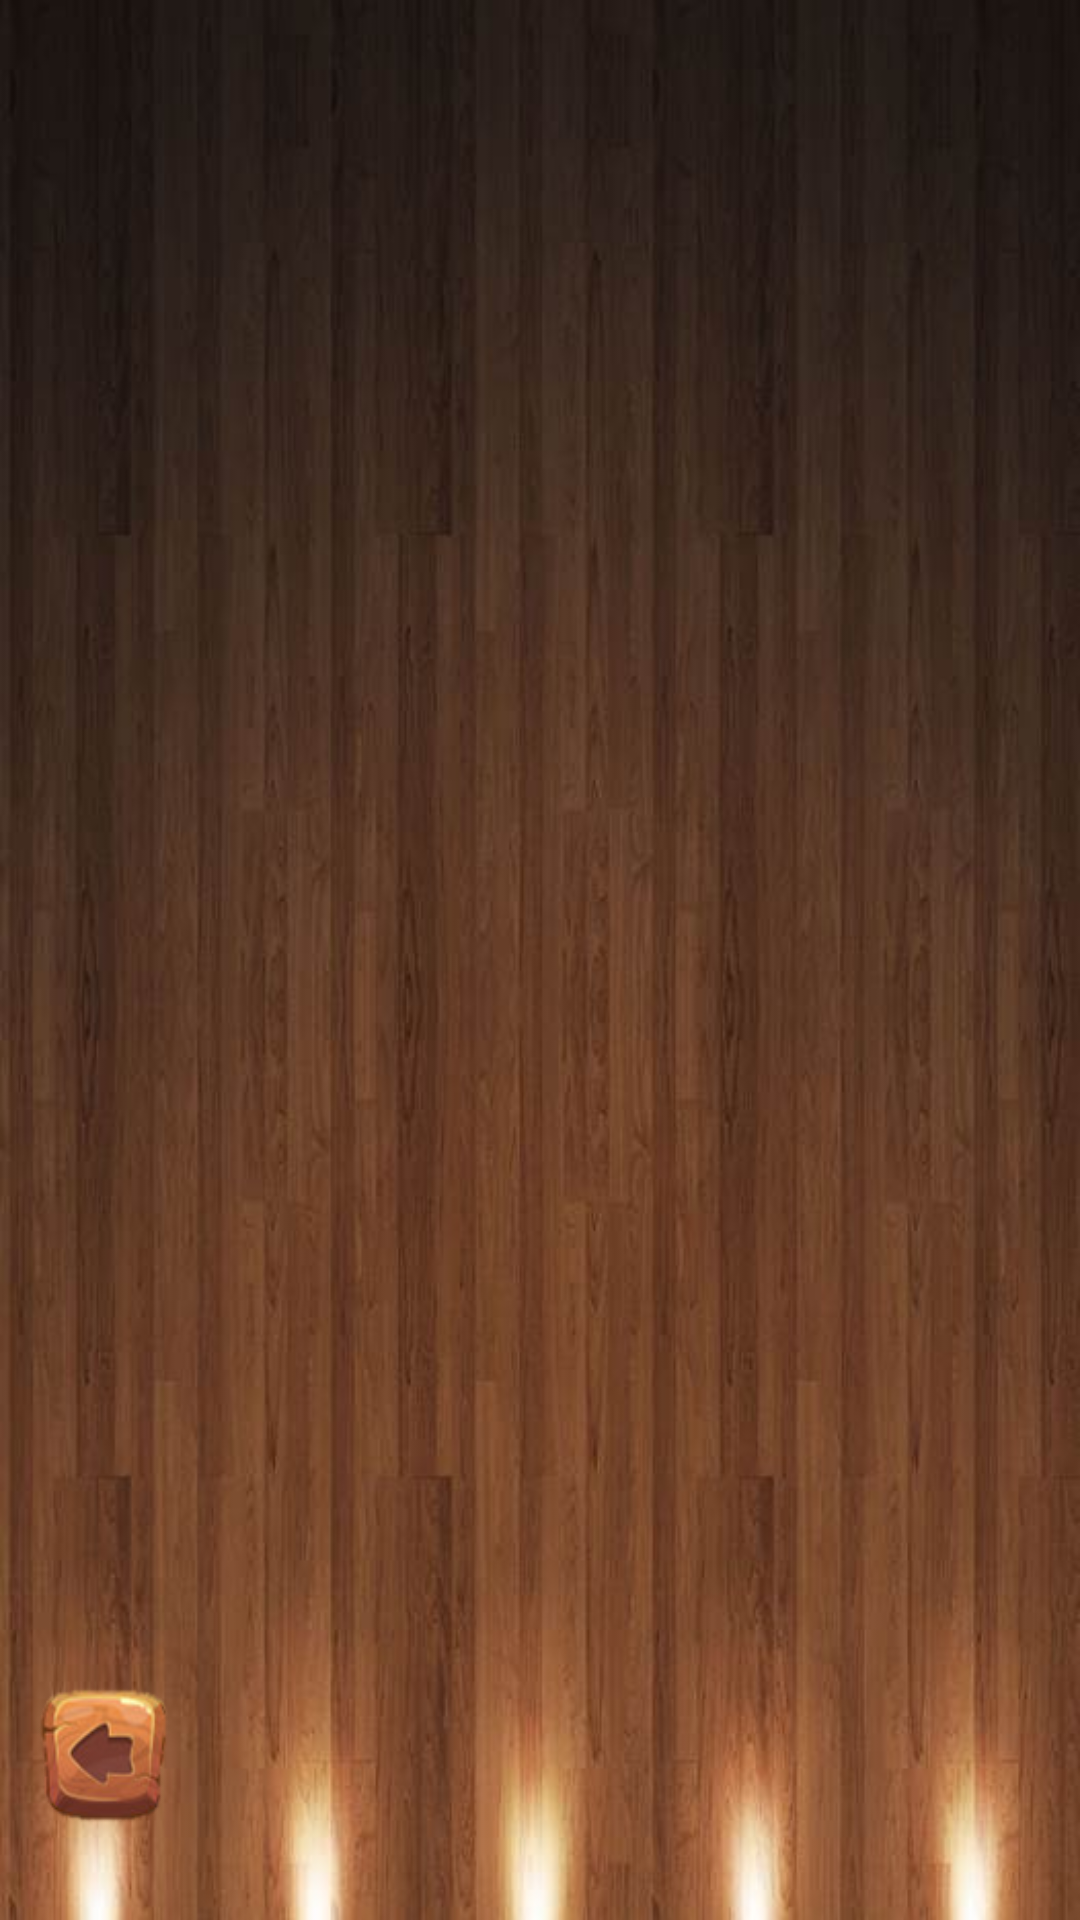

Named icons in this screenshot (1080px x 1920px) and their bounding boxes, box=[x1, y1, x2, y2]:
retour: box=[39, 1682, 166, 1818]
